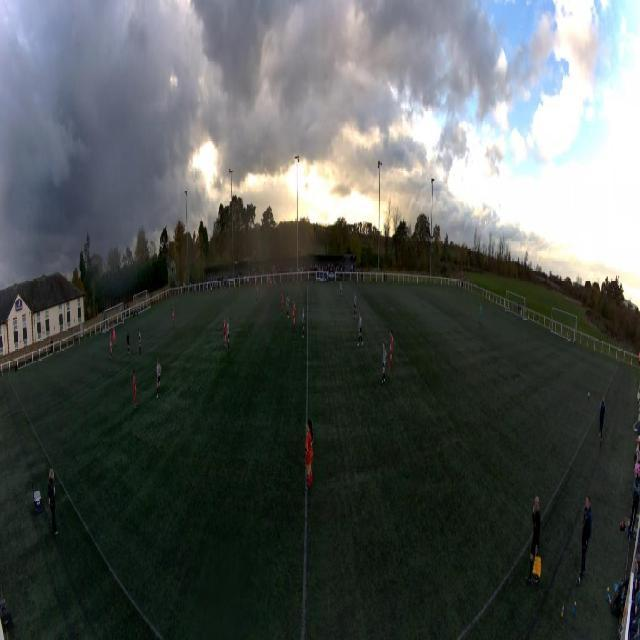ball: (588, 392, 590, 399)
player: (304, 418, 315, 487), (381, 343, 387, 384), (156, 360, 162, 398), (133, 368, 138, 412), (357, 313, 363, 349), (389, 331, 393, 369), (226, 317, 230, 352), (223, 316, 227, 350), (301, 308, 305, 339), (292, 302, 296, 331), (286, 294, 290, 319), (353, 292, 357, 317), (127, 330, 131, 355), (281, 293, 285, 317), (109, 337, 113, 361), (478, 304, 482, 324), (338, 283, 342, 302), (139, 330, 142, 354), (172, 305, 175, 327), (255, 286, 258, 304), (113, 328, 116, 346), (274, 278, 277, 290), (270, 275, 272, 289)
